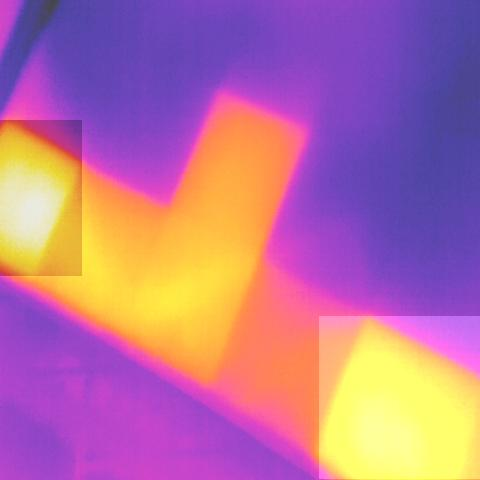fault: (319, 316, 480, 479), (0, 120, 82, 276)
